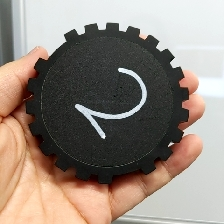gear: (24, 21, 191, 184)
missing: (34, 28, 79, 75), (97, 159, 156, 186)
